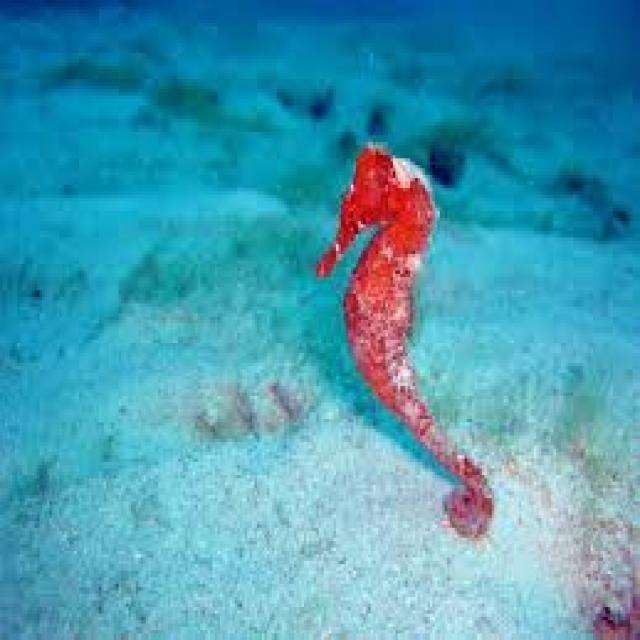SeaHorse: (316, 145, 496, 548)
